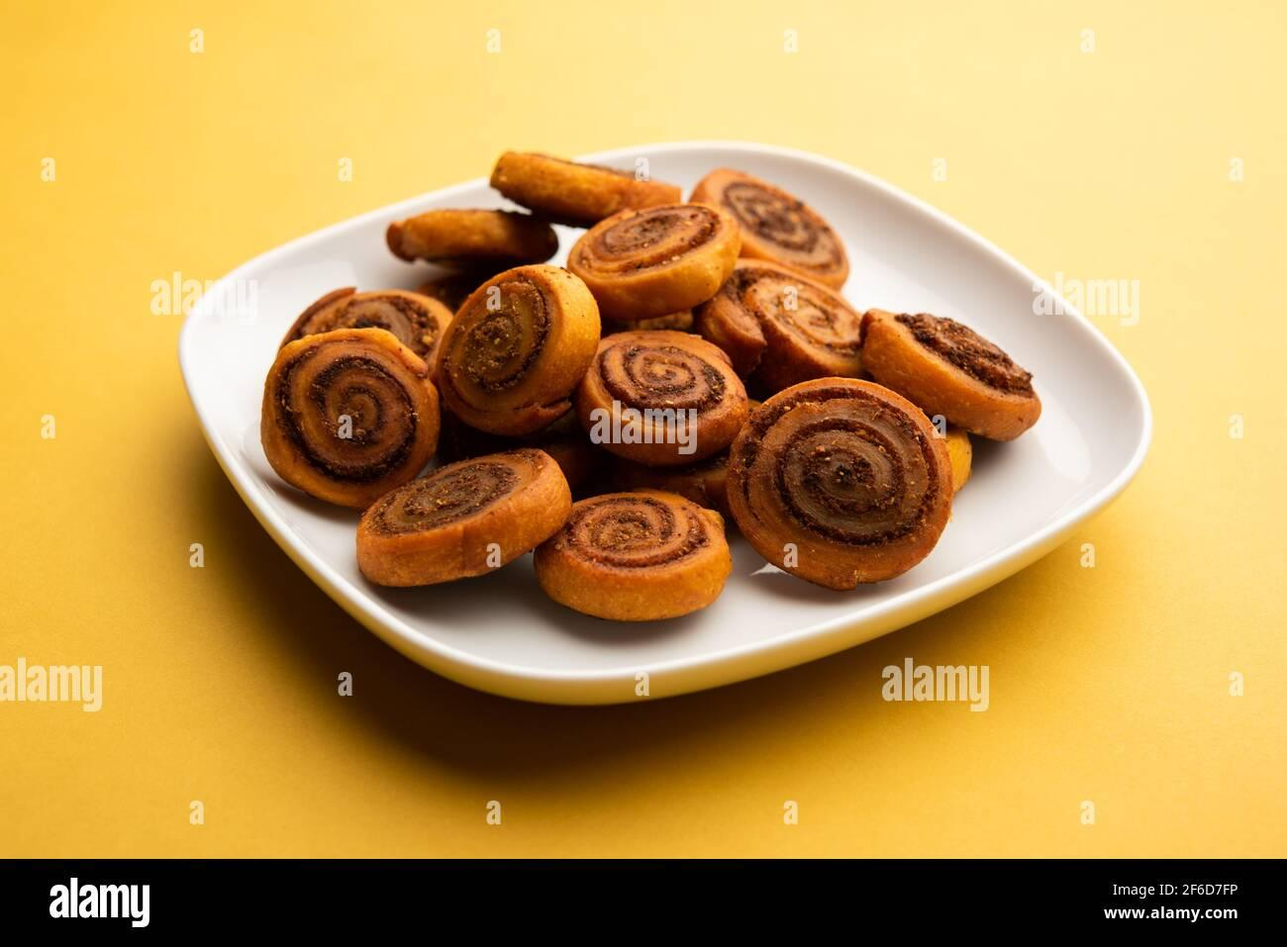bhakarwadi: (261, 142, 1053, 612)
